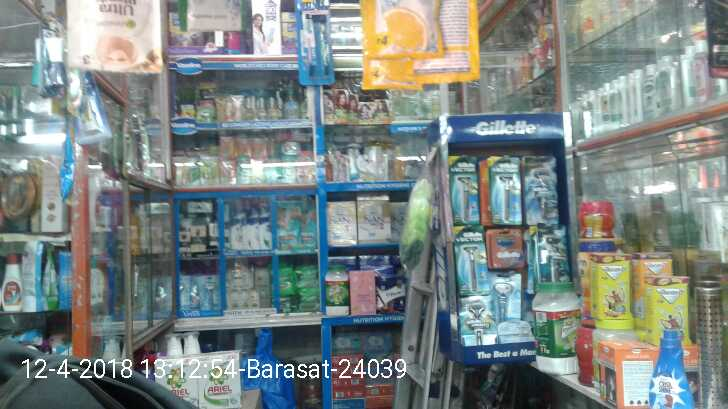gillete: (482, 154, 521, 224), (525, 156, 558, 222), (450, 155, 479, 223), (528, 225, 566, 276), (458, 227, 487, 290), (462, 298, 494, 344), (491, 229, 522, 266), (497, 273, 522, 318)
venus: (200, 276, 218, 311), (182, 276, 197, 305)
